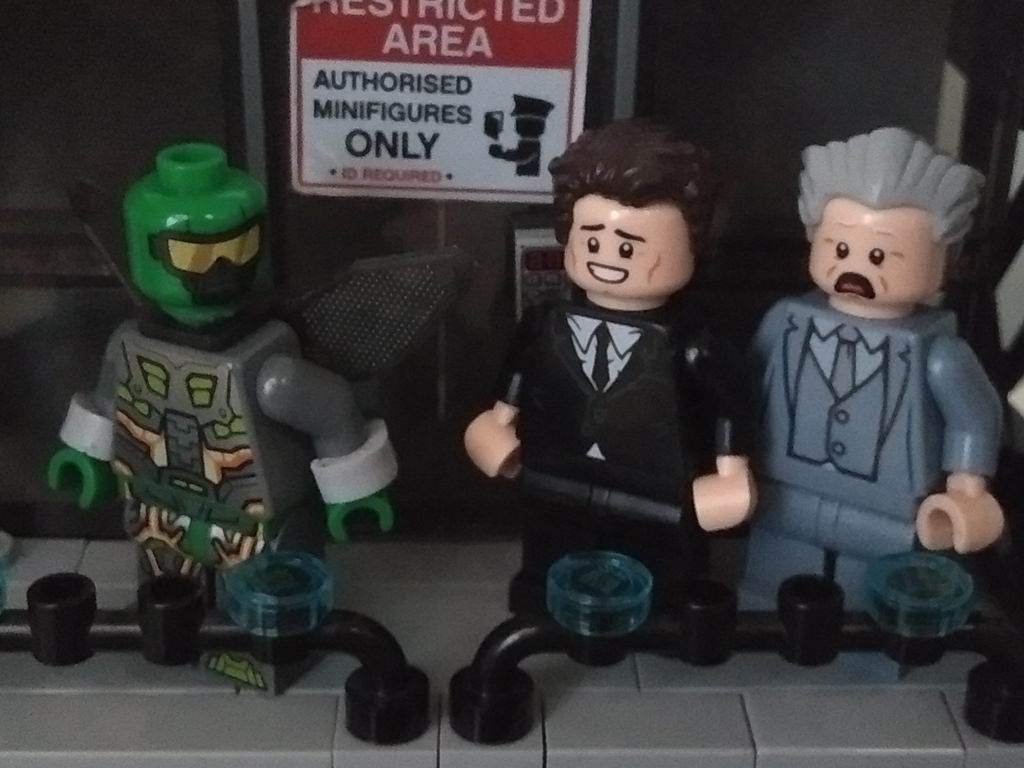chopped lettuce: (170, 143, 224, 212)
